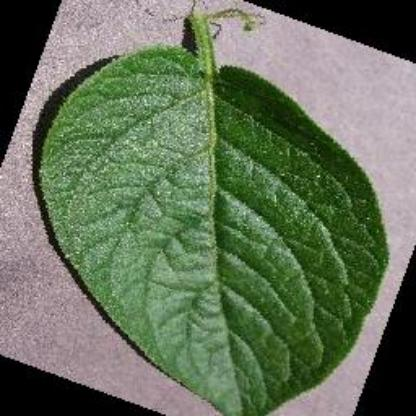Healthy-plant: (31, 11, 394, 415)
